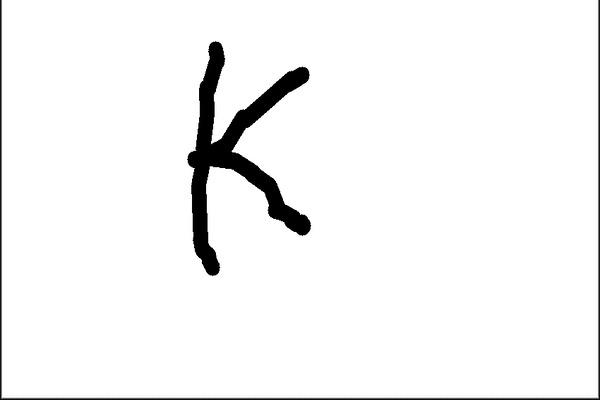K: (180, 36, 318, 280)
